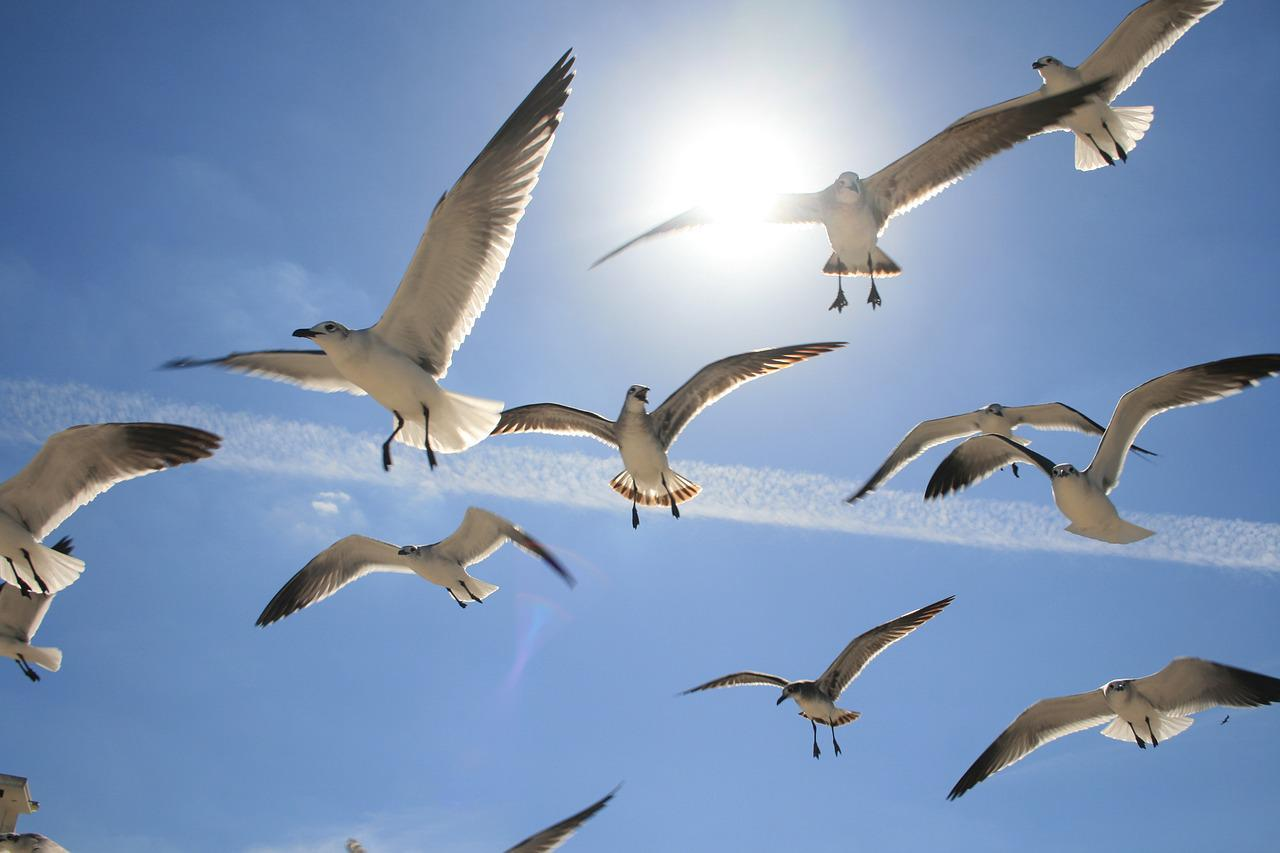bird: (645, 570, 968, 773), (231, 490, 609, 661)
